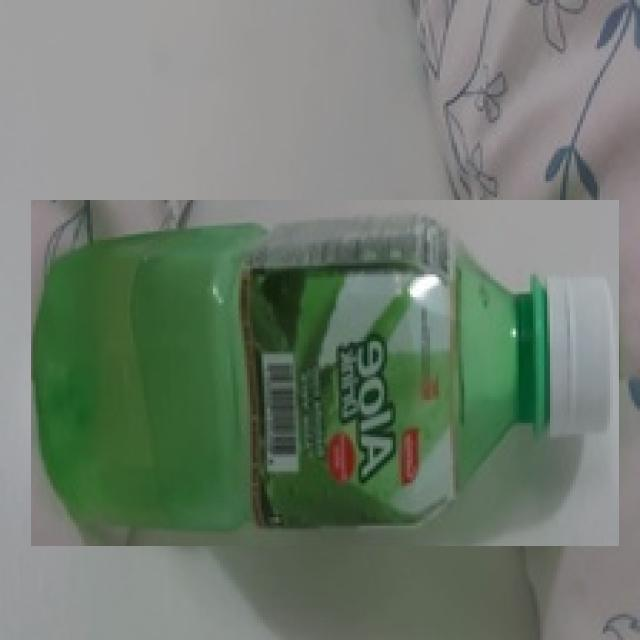bottle: (31, 200, 619, 546)
cap: (526, 256, 620, 459)
label: (246, 198, 472, 550)
